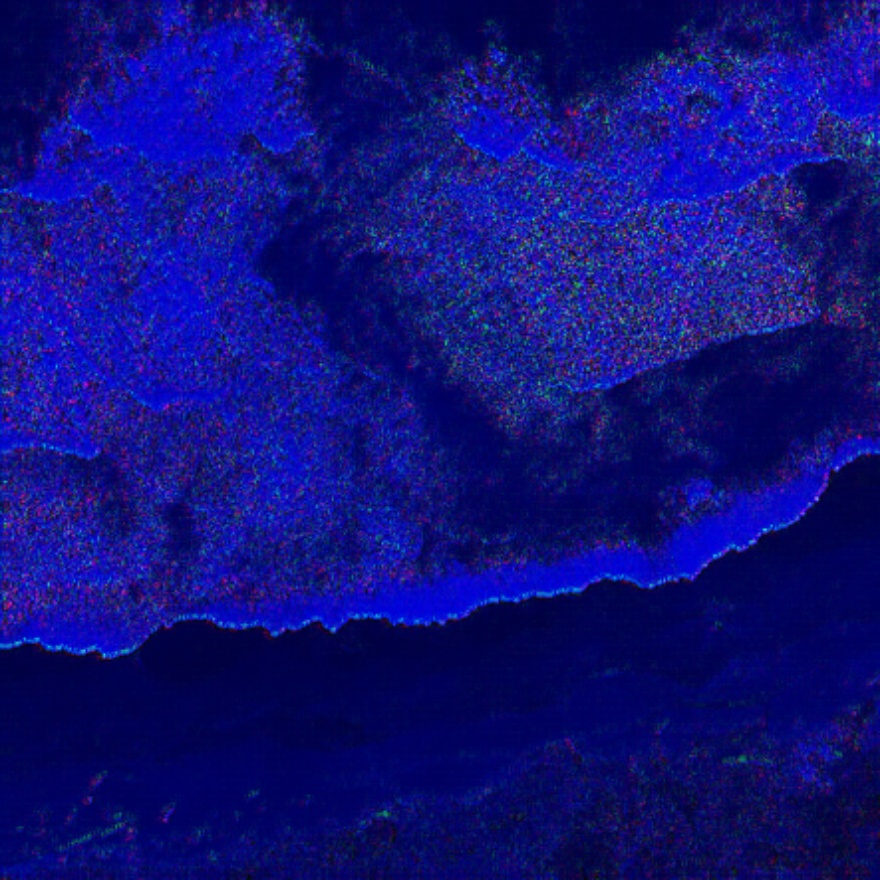rip_current: (250, 33, 580, 525)
